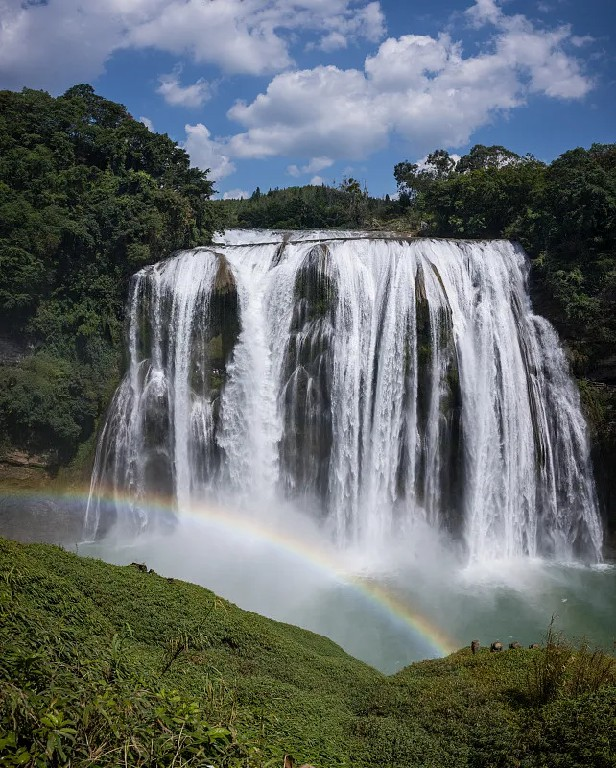Huangguoshu: (92, 231, 606, 564)
